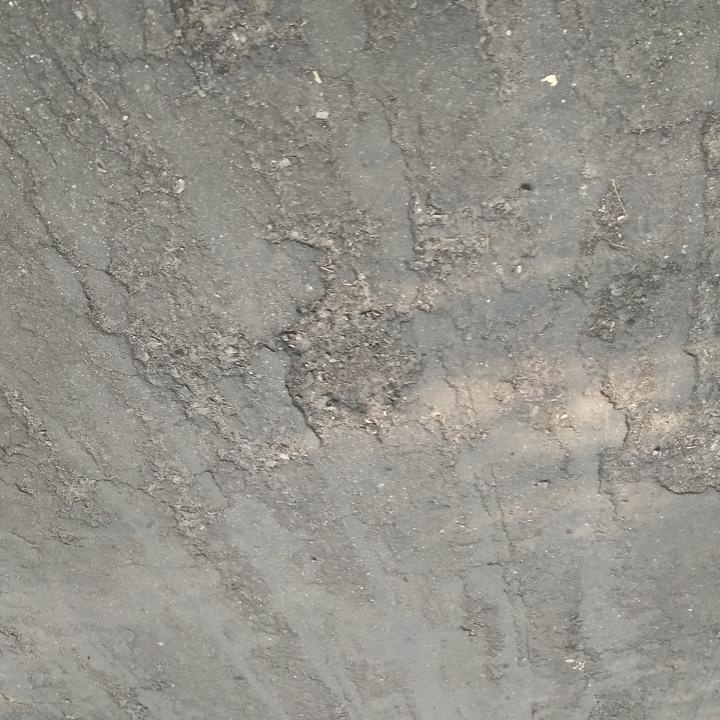pothole: (276, 278, 435, 434), (169, 0, 304, 74), (622, 409, 720, 505)
